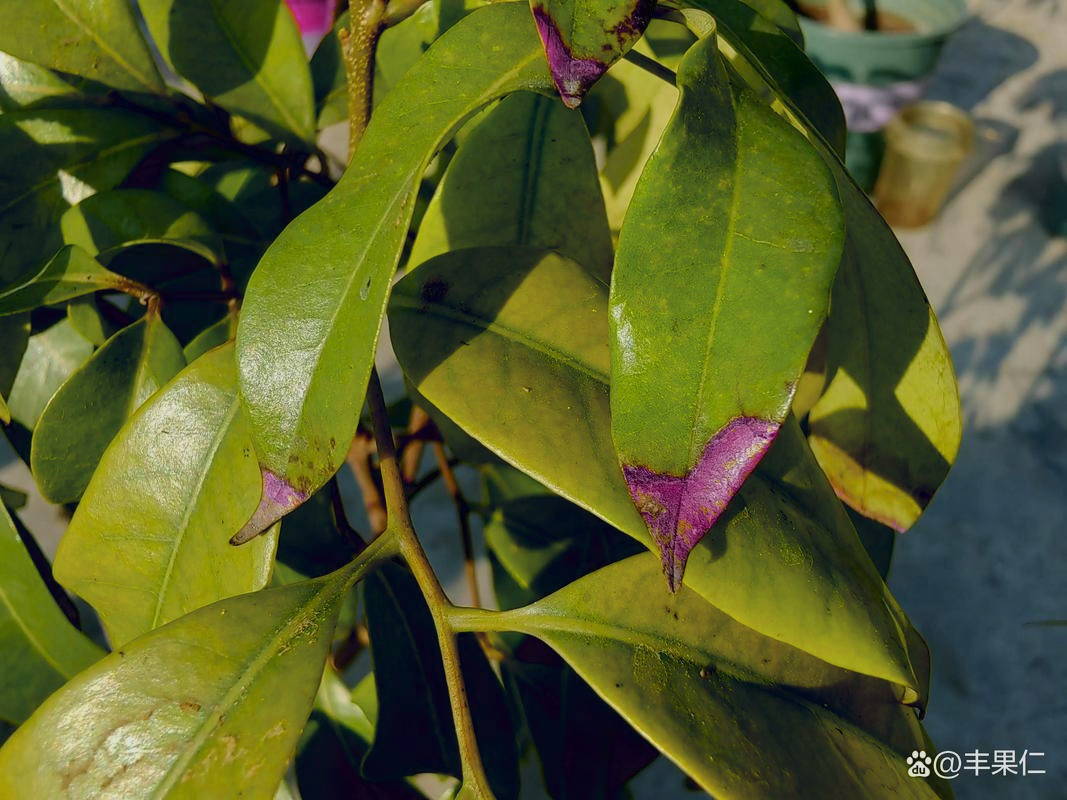Frost_Blight: (589, 359, 773, 576), (177, 386, 330, 559), (555, 0, 640, 140)
